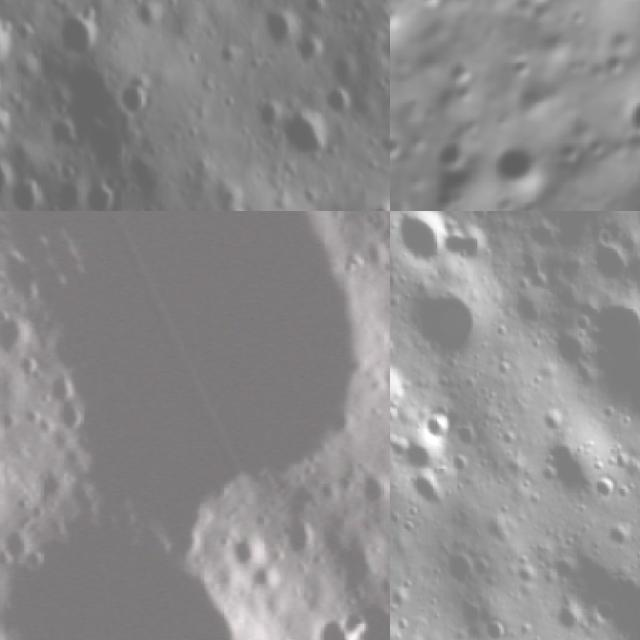crater: (0, 211, 390, 536), (0, 417, 390, 640), (403, 277, 487, 366), (475, 132, 557, 211), (573, 296, 640, 371), (390, 211, 459, 278), (218, 516, 278, 580), (414, 398, 470, 462), (336, 457, 390, 521), (588, 233, 636, 302), (421, 129, 477, 185), (278, 513, 332, 568), (299, 603, 375, 640), (434, 539, 487, 592), (241, 550, 293, 604), (0, 301, 43, 362), (286, 117, 332, 165), (62, 4, 100, 58), (38, 363, 82, 409), (613, 80, 640, 152), (121, 80, 157, 130), (0, 407, 15, 518), (500, 0, 564, 25), (259, 10, 298, 48), (591, 478, 629, 512), (89, 176, 123, 211), (390, 124, 413, 172), (296, 35, 330, 66), (0, 17, 16, 77), (390, 355, 403, 422), (324, 91, 358, 116), (258, 98, 279, 134), (17, 179, 40, 211), (0, 158, 13, 201), (390, 156, 404, 190)
